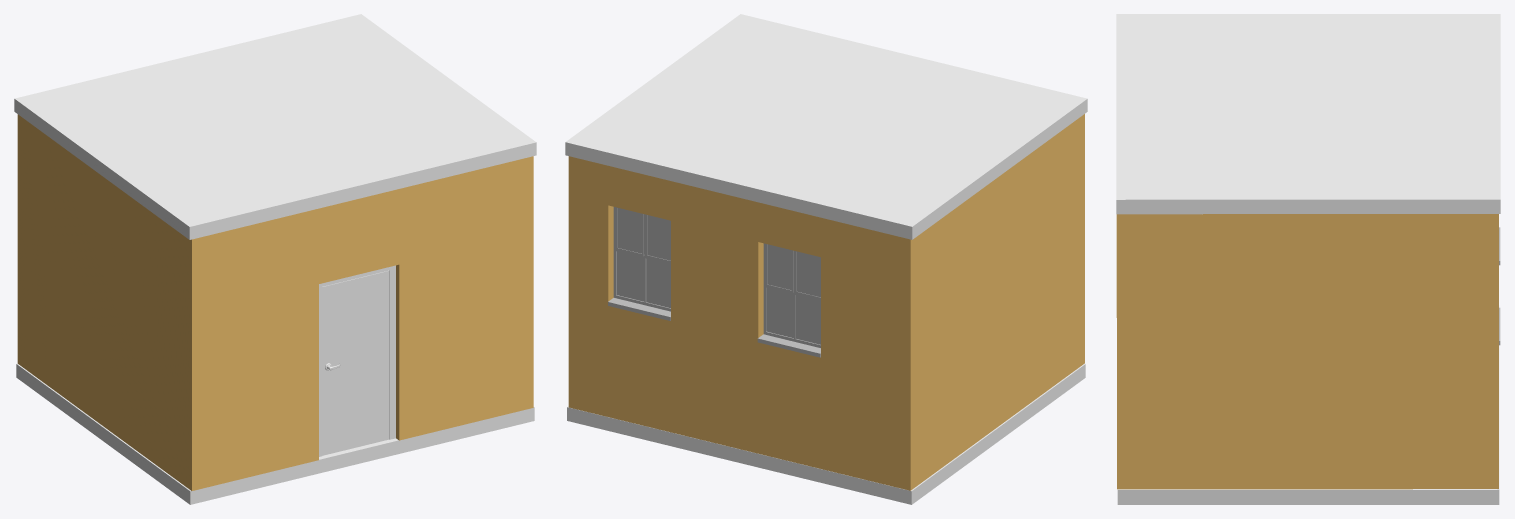
Rendered from FloorPlan4_physics.fbx.
3 renders of one model, left to right at view 1: azimuth 30°, elevation 25°; view 2: azimuth 150°, elevation 25°; view 3: azimuth 270°, elevation 25°, orthographic. The views are drawn at different scales.
Parts seen in each view (by area): view 1: Wall, Ceiling.006, Door.005, Floor.007, DoorFrame.005; view 2: Wall, Ceiling.006, WindowGlass, Floor.007, WindowPane; view 3: Wall, Ceiling.006, Floor.007.
Boxes of the visible parts, x1,y1,x2,y2 form: Wall: [17, 114, 533, 490]; Ceiling.006: [14, 14, 536, 239]; Door.005: [322, 270, 389, 455]; Floor.007: [16, 363, 534, 504]; DoorFrame.005: [319, 265, 395, 456]; Wall: [568, 114, 1084, 490]; Ceiling.006: [565, 14, 1087, 239]; WindowGlass: [616, 208, 820, 344]; Floor.007: [567, 363, 1085, 504]; WindowPane: [608, 207, 820, 357]; Wall: [1116, 214, 1498, 489]; Ceiling.006: [1116, 14, 1500, 214]; Floor.007: [1117, 305, 1499, 504].
Size of the model in its own units: 432 by 332 by 378.
